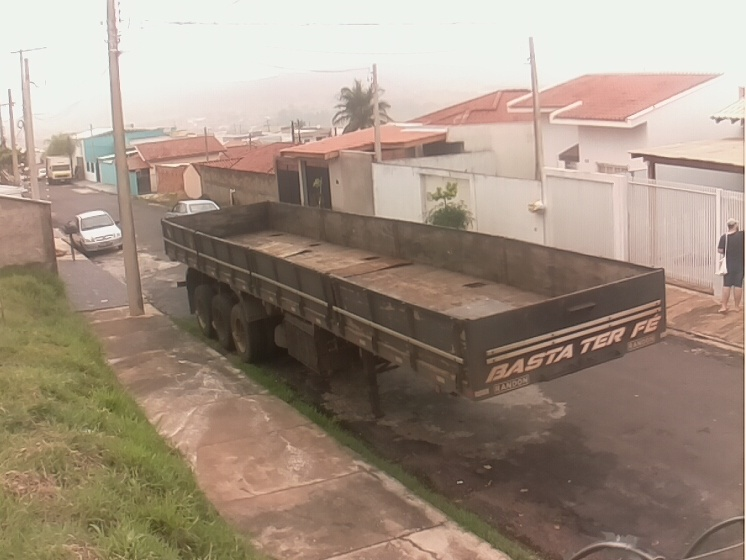person: (713, 216, 746, 317)
